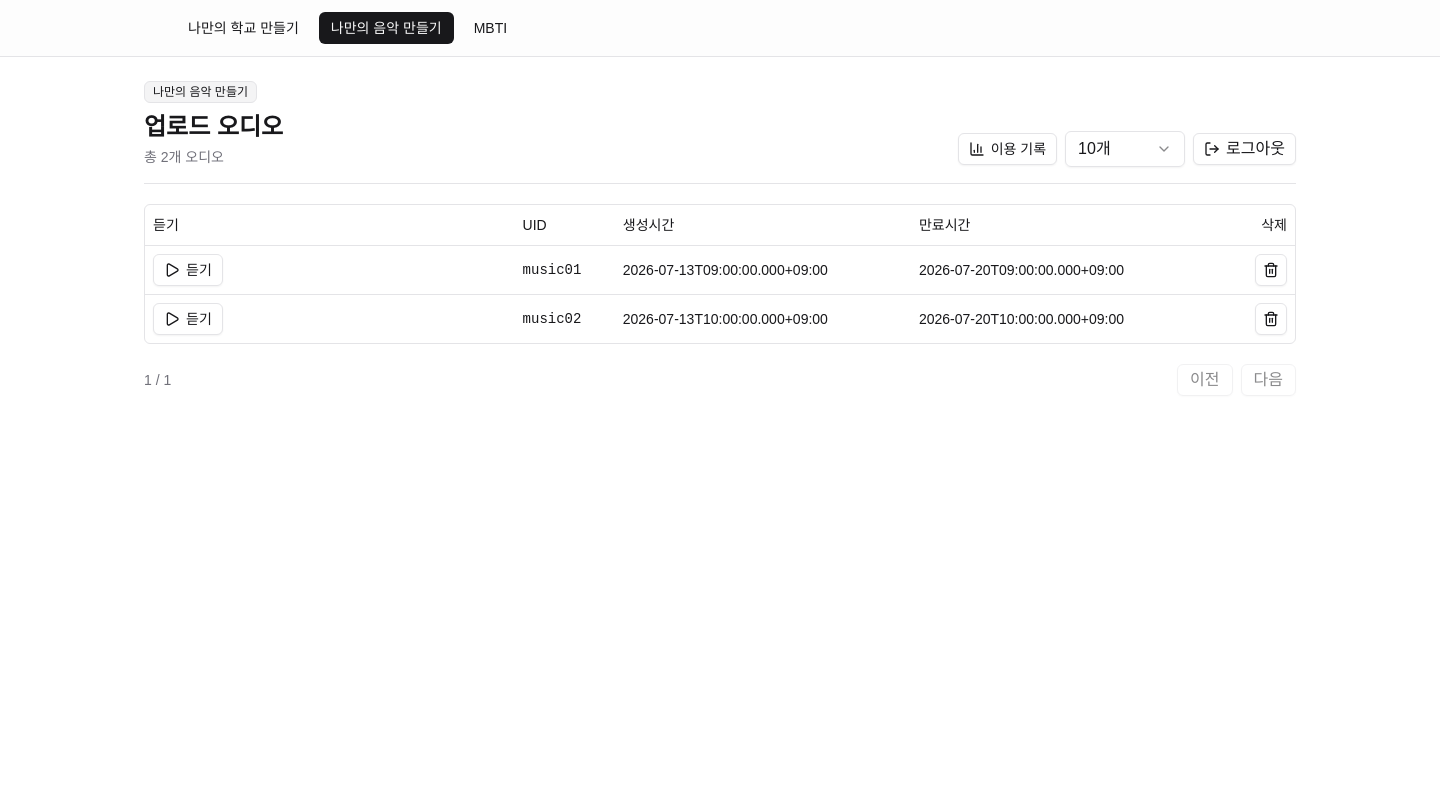
Test: ImageList › shows one toggleable music player instead of thumbnails
Expected: the heading "업로드 오디오" is shown, [144,111,283,143]
Expected: the text "총 2개 오디오" is shown, [144,149,224,165]
Step 1. Click the button "듣기" in the row of "music01" → (188, 270), box [153,254,223,286]
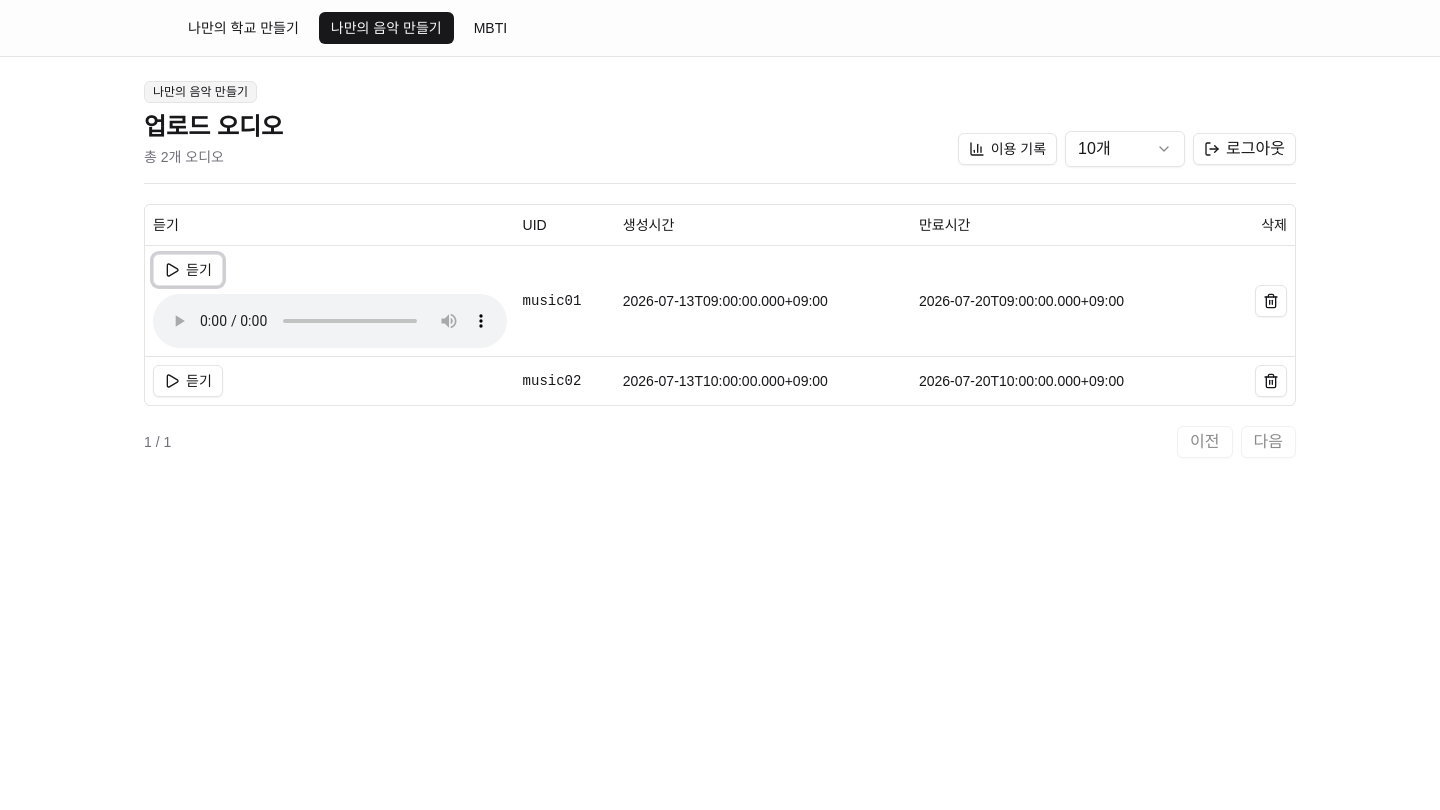
Step 2. Click the button "듣기" in the row of "music02" → (188, 380), box [153,364,223,396]
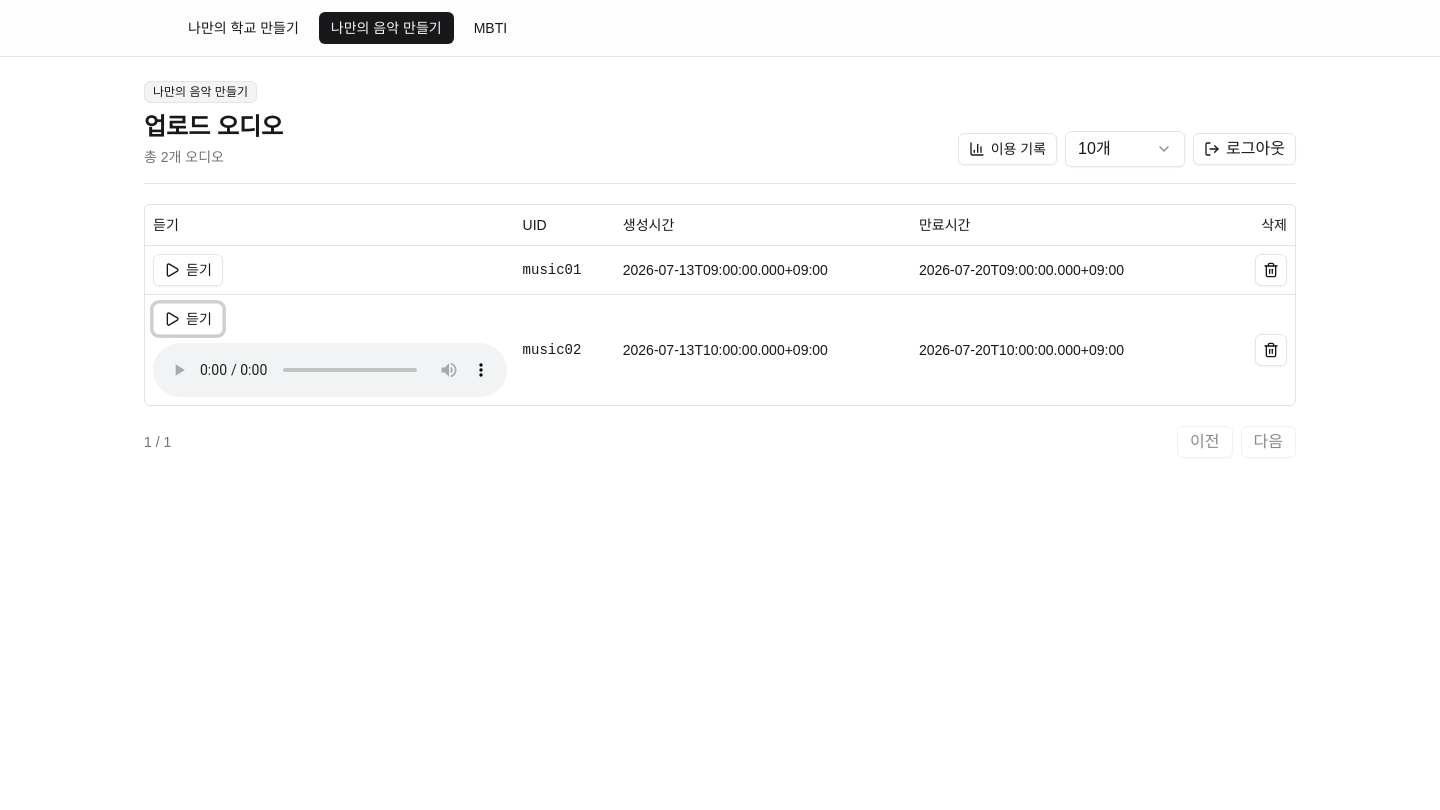
Now the element named "second.wav 재생" has attribute src="/api/music/images/music02/file", box [153,342,507,396]
Step 3. Click the 2nd button "듣기" → (188, 318), box [153,302,223,334]
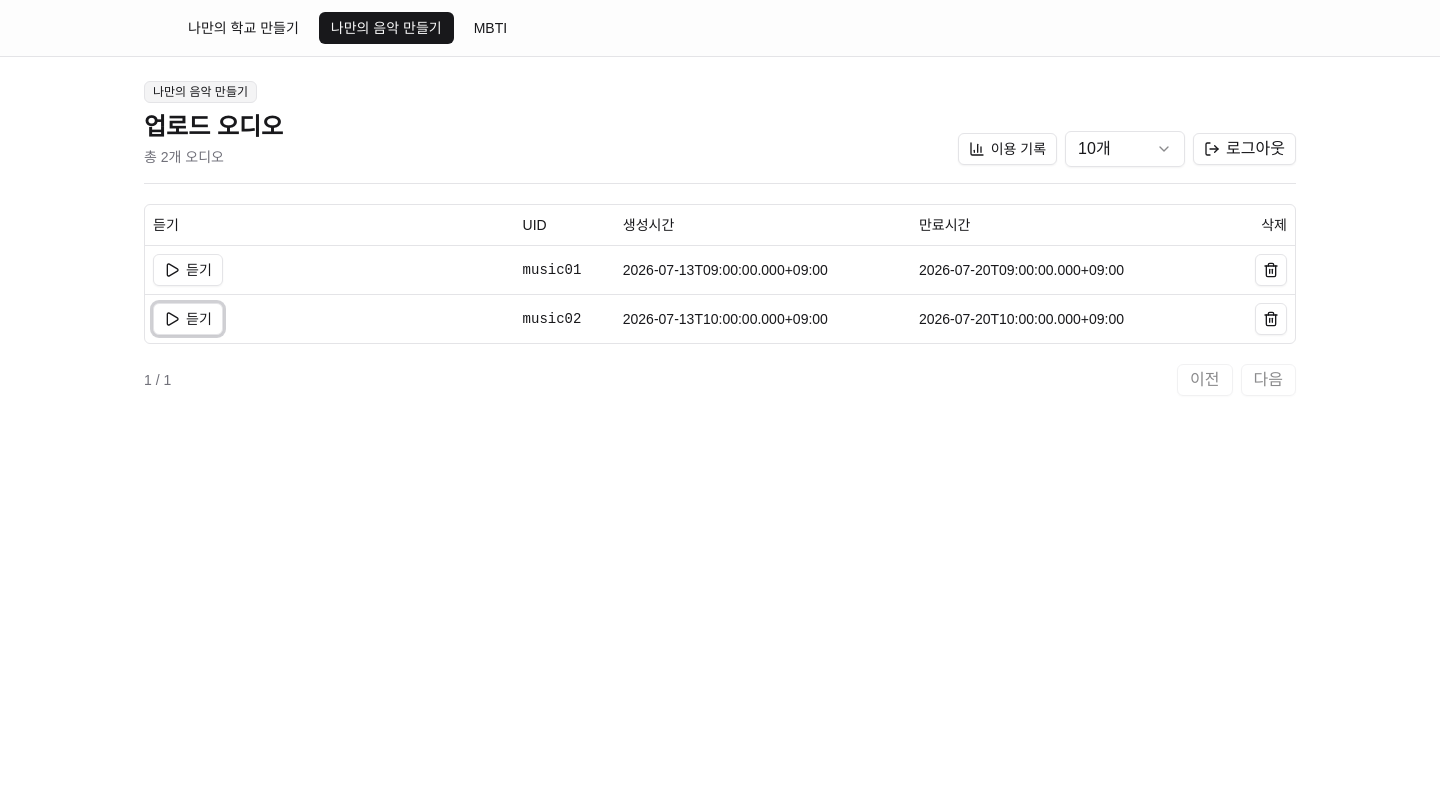
Step 4. Click the button named "music01 삭제" → (1271, 270), box [1255,254,1287,286]
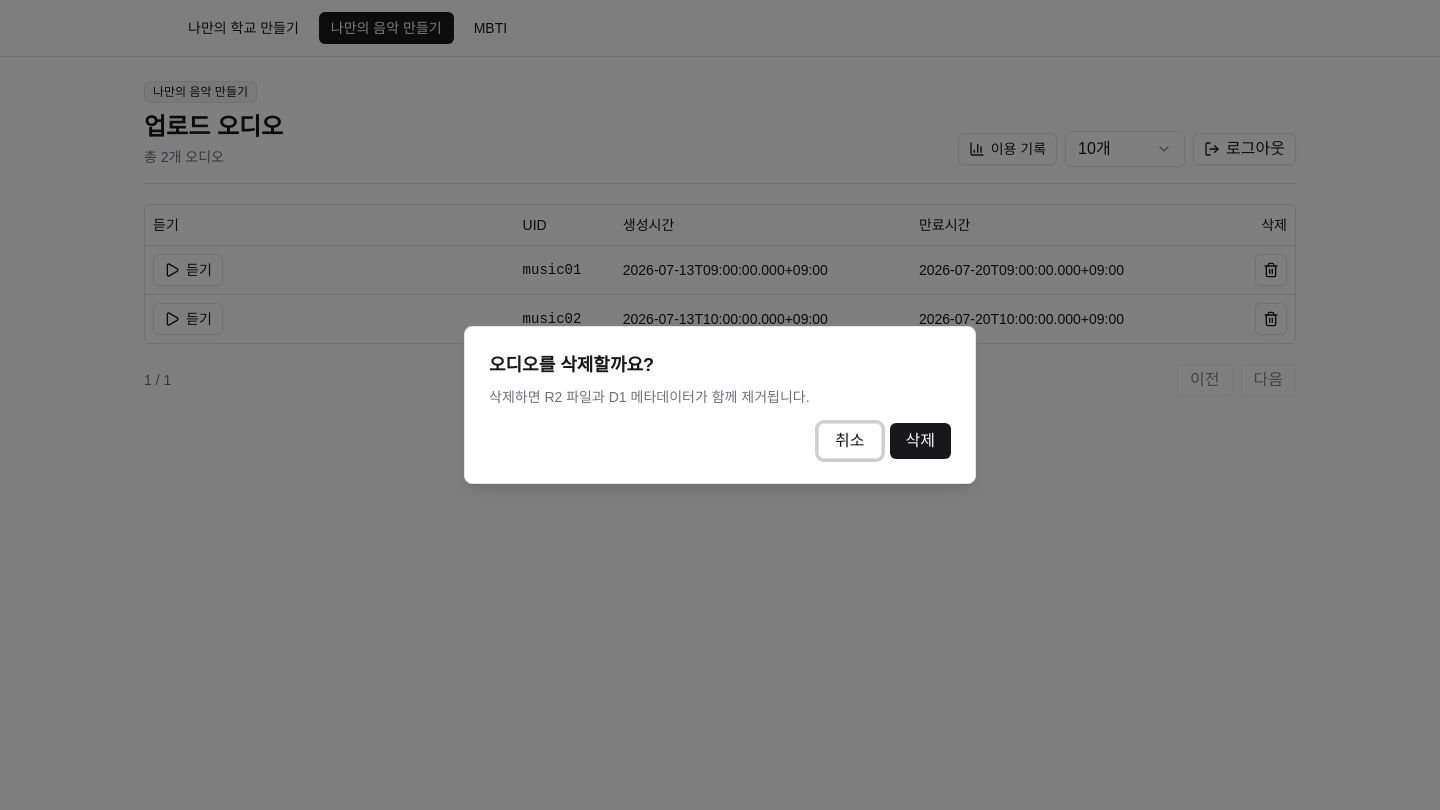
Now the heading "오디오를 삭제할까요?" is shown, box [489,355,654,375]
